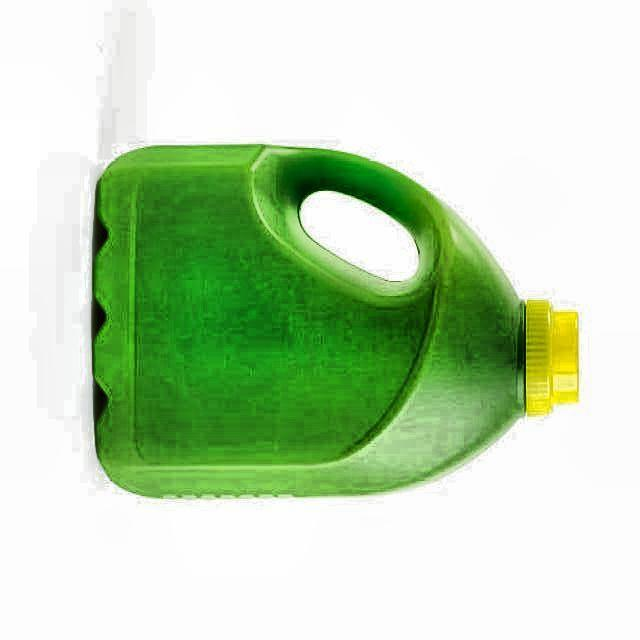plastic: (93, 146, 578, 496)
